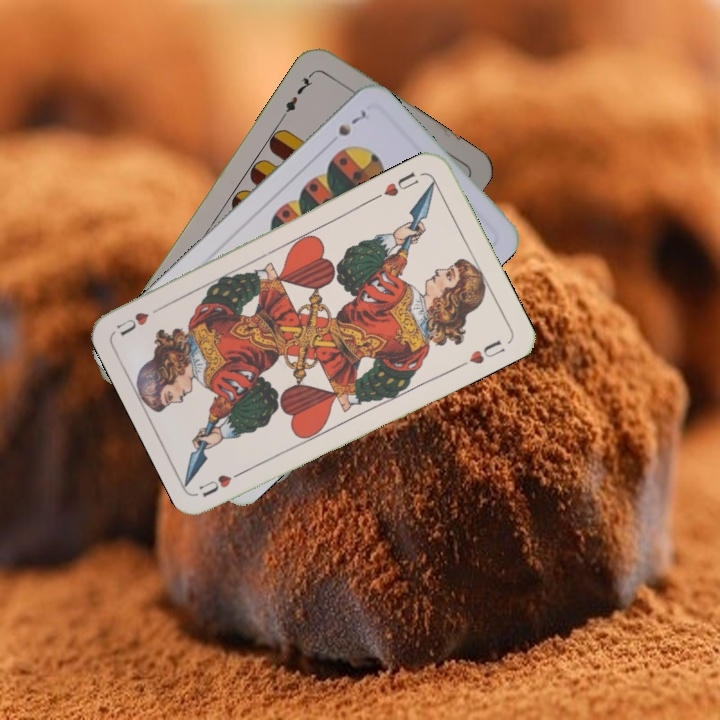E7: (278, 68, 317, 120)
HU: (194, 464, 251, 500), (379, 167, 422, 200)
S7: (334, 106, 369, 139)
